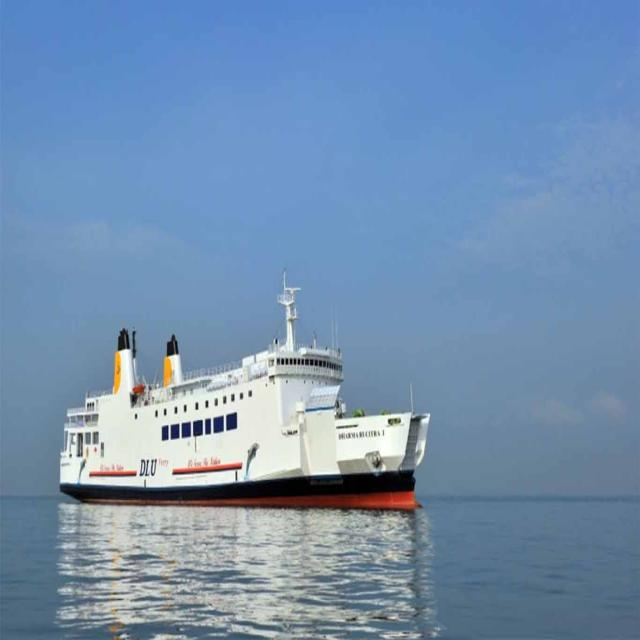PassengerShip: (17, 105, 486, 640)
